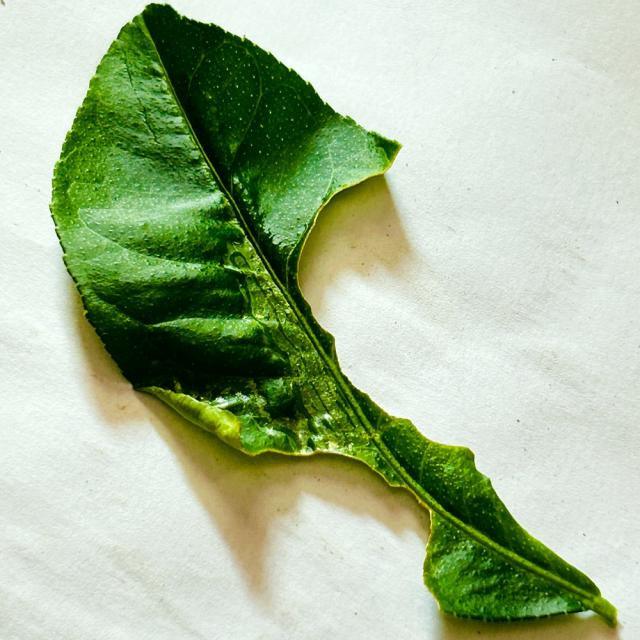Deficiency Leaf: (298, 175, 454, 442), (248, 453, 429, 593)
Lemon: (51, 4, 616, 620)
